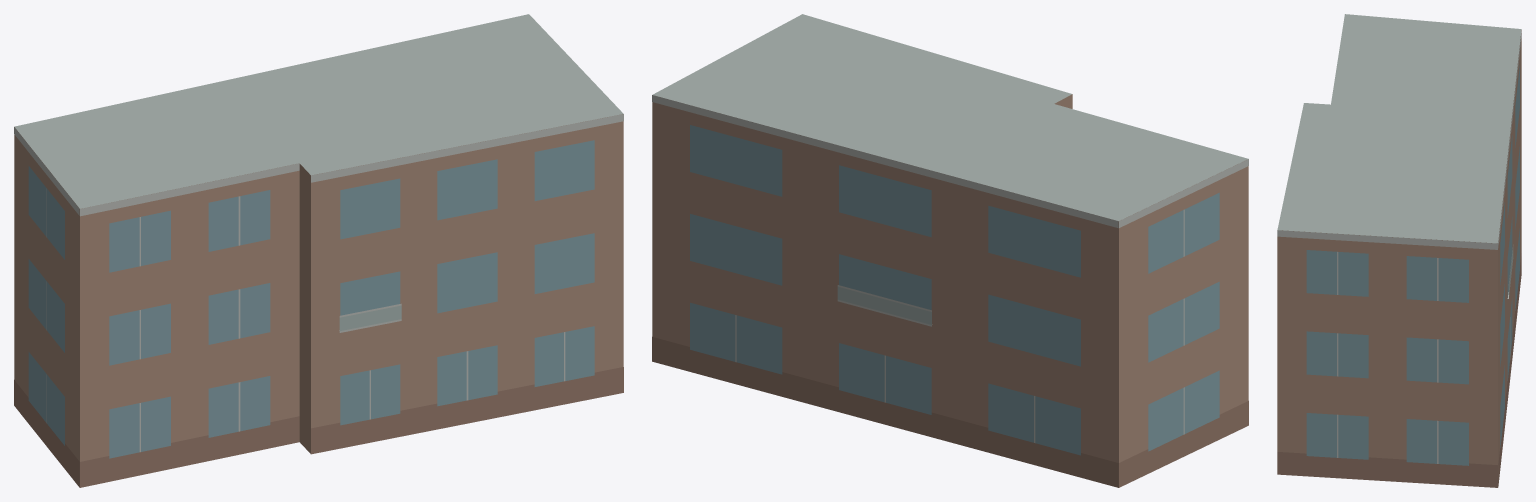
File: survey-upis-32645990.glb
The picture shows the model from 3 angles, left to right: view 1: azimuth 30°, elevation 25°; view 2: azimuth 150°, elevation 25°; view 3: azimuth 270°, elevation 25°; orthographic projection. The views are drawn at different scales.
Visible parts, largest first — view 1: survey-upis-32645990.tmp; view 2: survey-upis-32645990.tmp; view 3: survey-upis-32645990.tmp.
Part boxes in pixels (x1,y1,x2,y2): survey-upis-32645990.tmp: [14, 14, 623, 487]; survey-upis-32645990.tmp: [652, 14, 1248, 487]; survey-upis-32645990.tmp: [1277, 14, 1521, 487].
Size of the model in its own units: 18.43 by 9.15 by 8.3.
